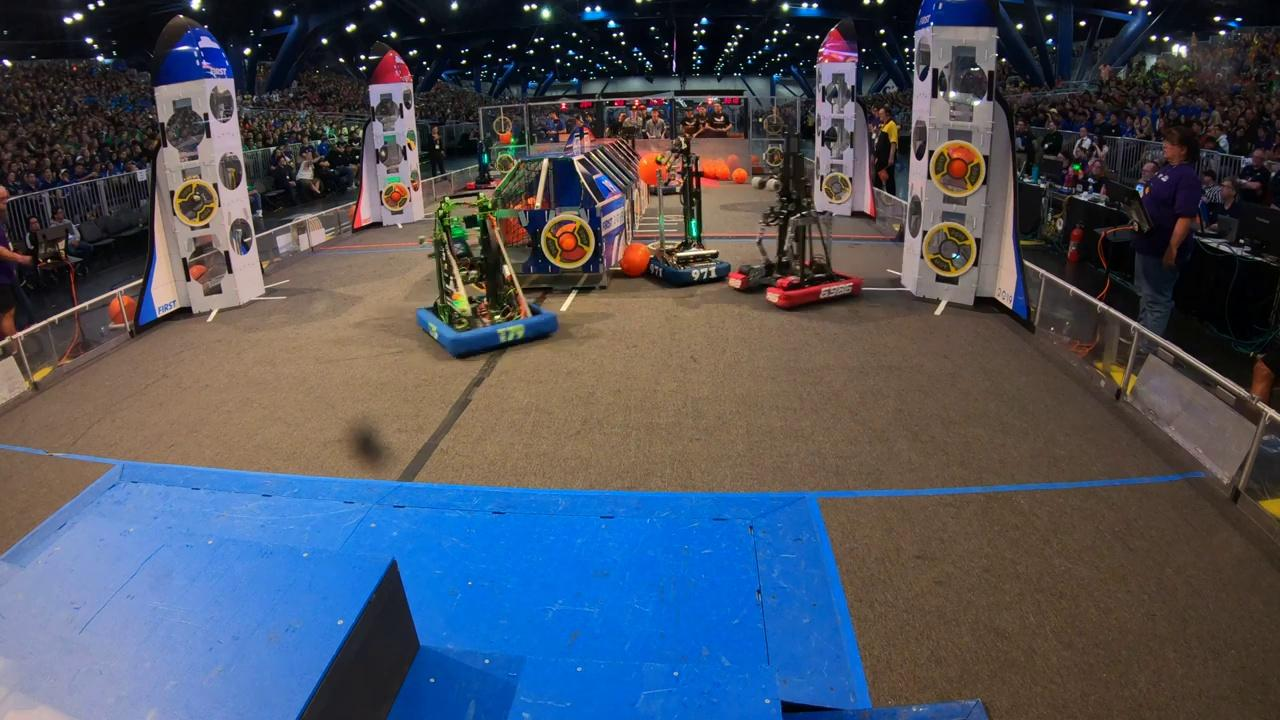robot: (411, 190, 564, 365), (724, 126, 866, 310), (635, 132, 735, 285)
